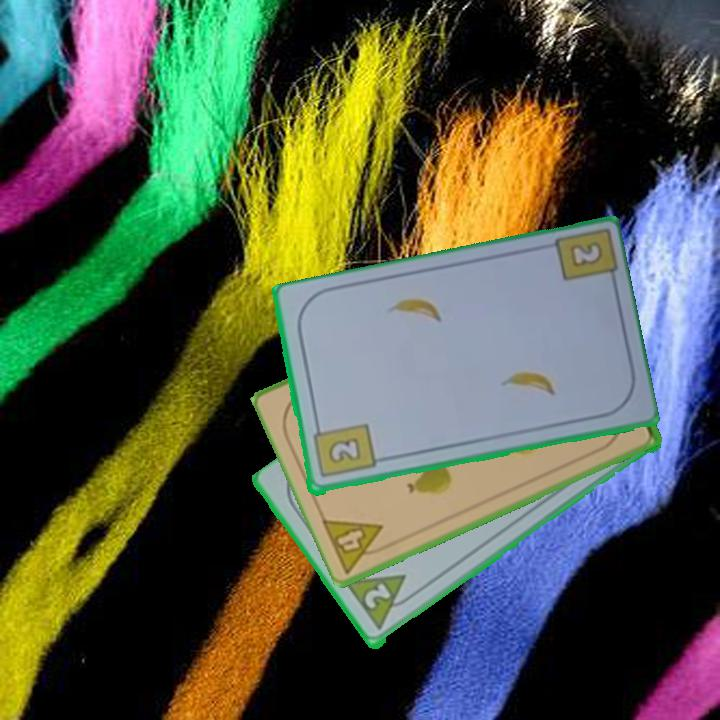2b: (309, 420, 378, 481), (569, 241, 602, 268)
2p: (360, 580, 394, 613)
4p: (318, 515, 397, 576)
